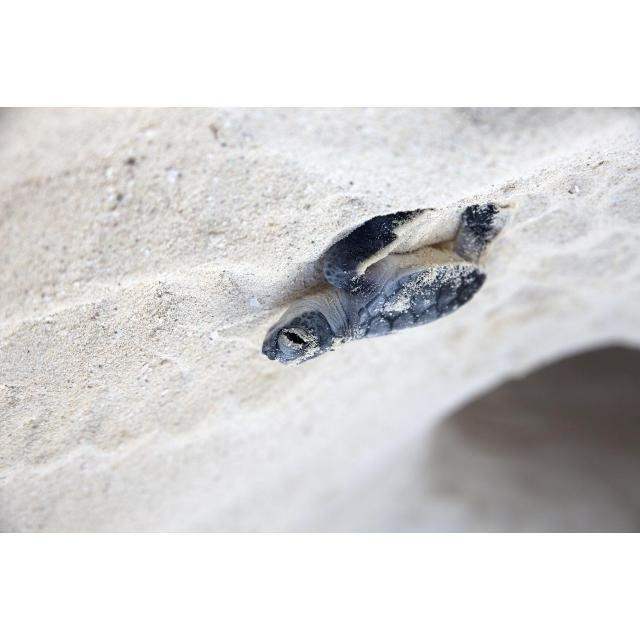turtle: (260, 201, 507, 364)
